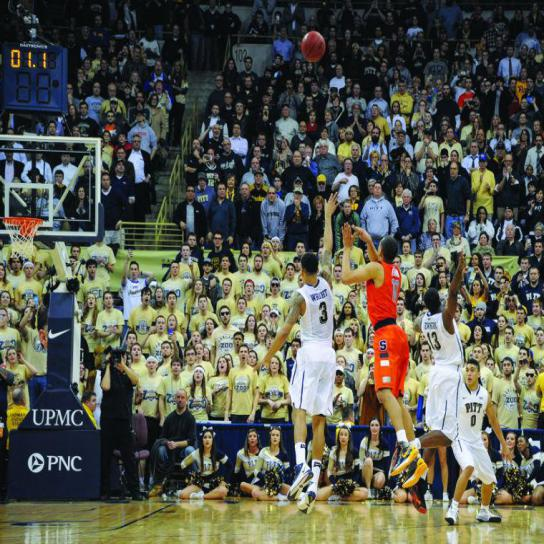basketball-hoop: (1, 213, 44, 264)
